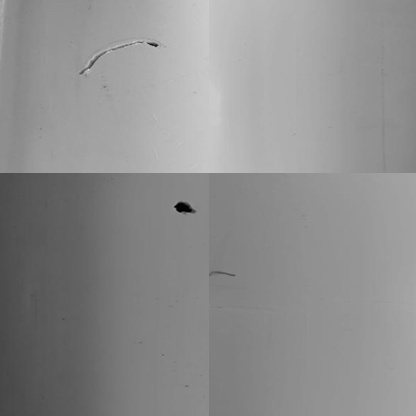fengxi: (75, 31, 163, 79), (206, 269, 240, 277)
kongdong: (170, 196, 197, 216)
